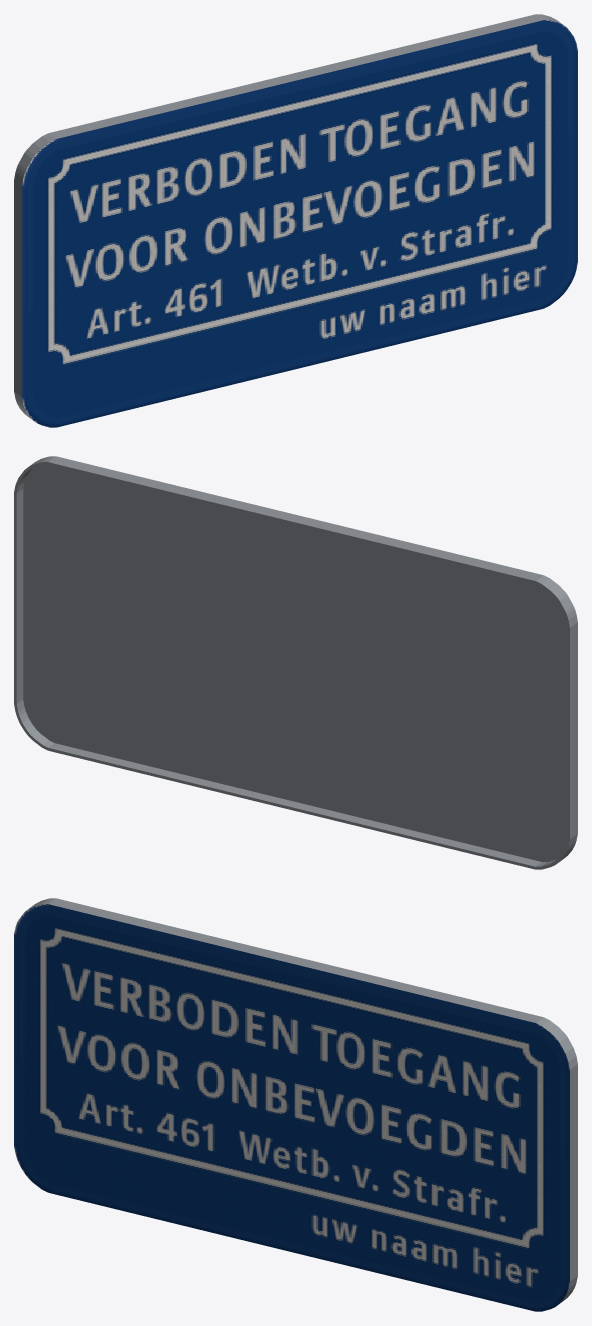
3 renders of one model, top to bottom at view 1: azimuth 30°, elevation 25°; view 2: azimuth 150°, elevation 25°; view 3: azimuth 330°, elevation 25°, orthographic.
Parts seen in each view (by area): view 1: cat_6ee4a39ed0709671; view 2: cat_6ee4a39ed0709671; view 3: cat_6ee4a39ed0709671.
Boxes of the visible parts, box(x1,y1,x2,y2) form: cat_6ee4a39ed0709671: box(14, 14, 577, 427); cat_6ee4a39ed0709671: box(14, 456, 577, 869); cat_6ee4a39ed0709671: box(14, 898, 577, 1311).
Size of the model in its own units: 0.6 by 0.015 by 0.2976.
Materials: 2 (1 with a texture image).
